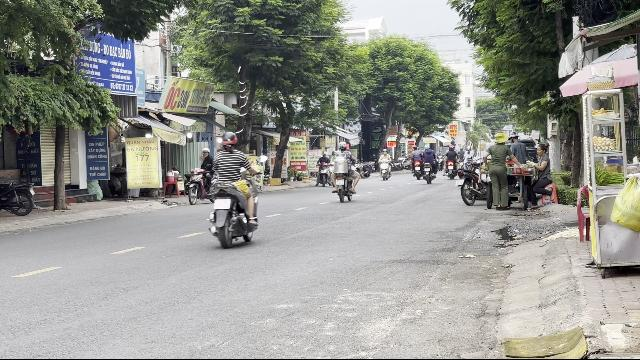helmet: (221, 131, 237, 148)
licenseplate: (213, 199, 230, 209)
motorcyclist: (207, 129, 261, 247)
